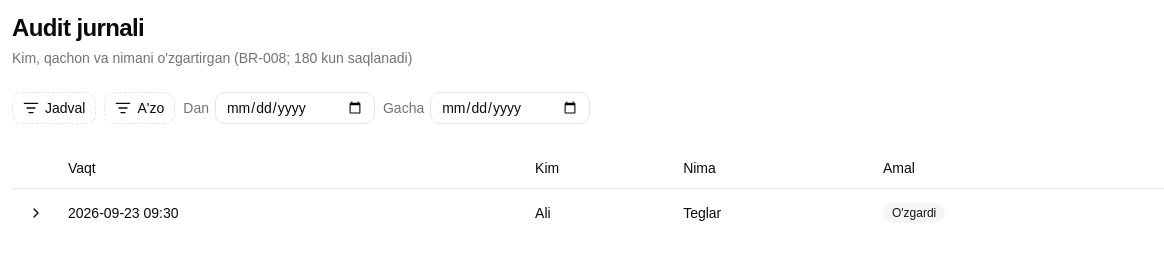
it: AuditPage (E25-T05, BR-008) › yozuv: kim, nima, amal; farqi ochiladi
This screenshot has width=1164, height=280.
Expected: the text "Ali" is shown, [527,188,675,236]
Expected: the text "Teglar" is shown, [675,188,875,236]
Click the button named "Farqini ochish" at (36, 212), box [20,196,52,228]
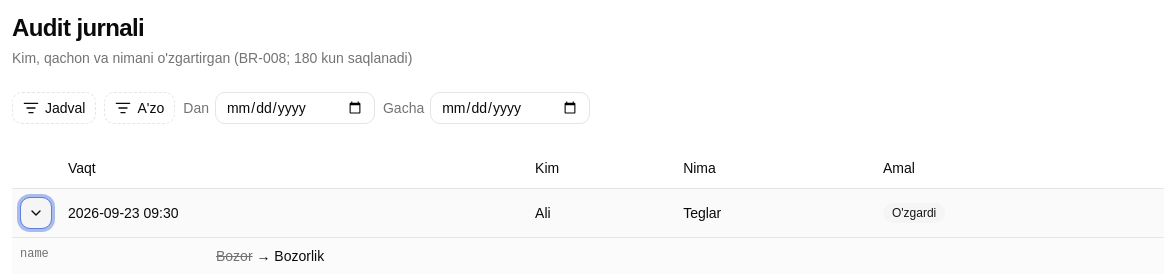
Now the text "name" is shown, box [20,246,49,260]
Now the text "Bozor" is shown, box [216,248,253,264]
Now the text "Bozorlik" is shown, box [274,248,324,264]
